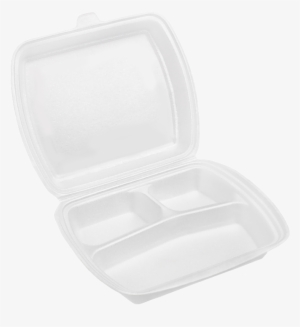Foam Box: (6, 9, 295, 306)
